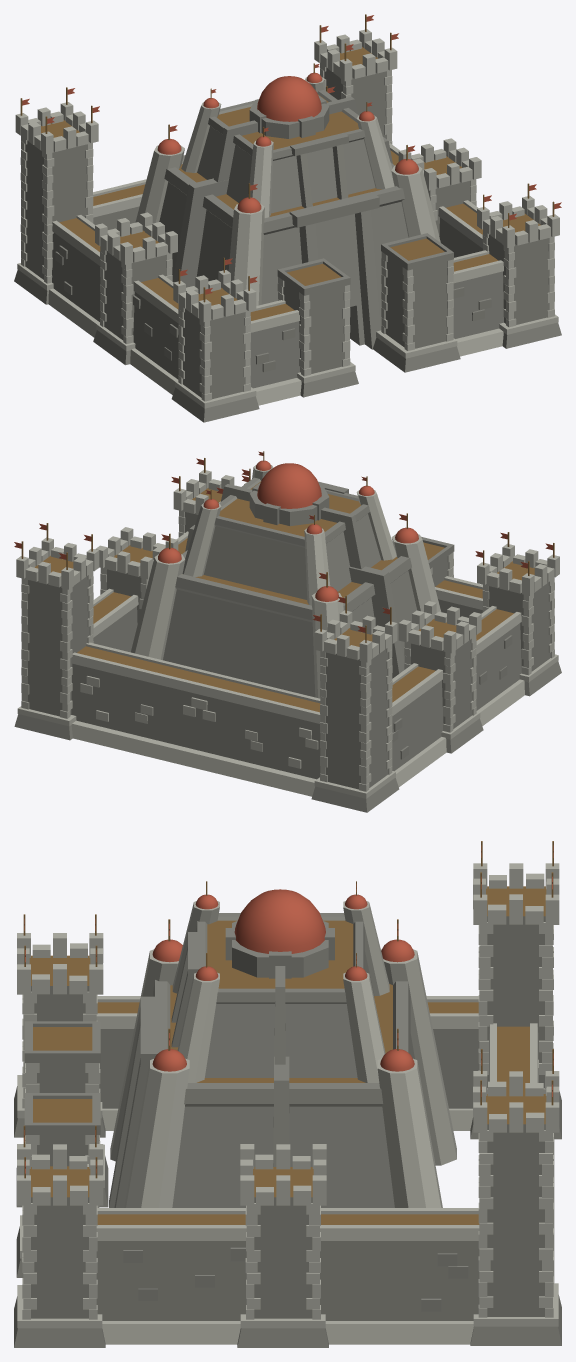
The model's file is Castle Fortress.glb.
The picture shows the model from 3 angles, top to bottom: view 1: azimuth 30°, elevation 25°; view 2: azimuth 150°, elevation 25°; view 3: azimuth 270°, elevation 25°; orthographic projection. The views are drawn at different scales.
Visible parts, largest first — view 1: Castle Fortress; view 2: Castle Fortress; view 3: Castle Fortress.
Boxes of the visible parts, left/top/right/bottom form: Castle Fortress: left=14, top=14, right=561, bottom=422; Castle Fortress: left=14, top=451, right=561, bottom=812; Castle Fortress: left=14, top=841, right=561, bottom=1347.
Bounding box in the file's own units: 2.13 × 1.35 × 1.96.
